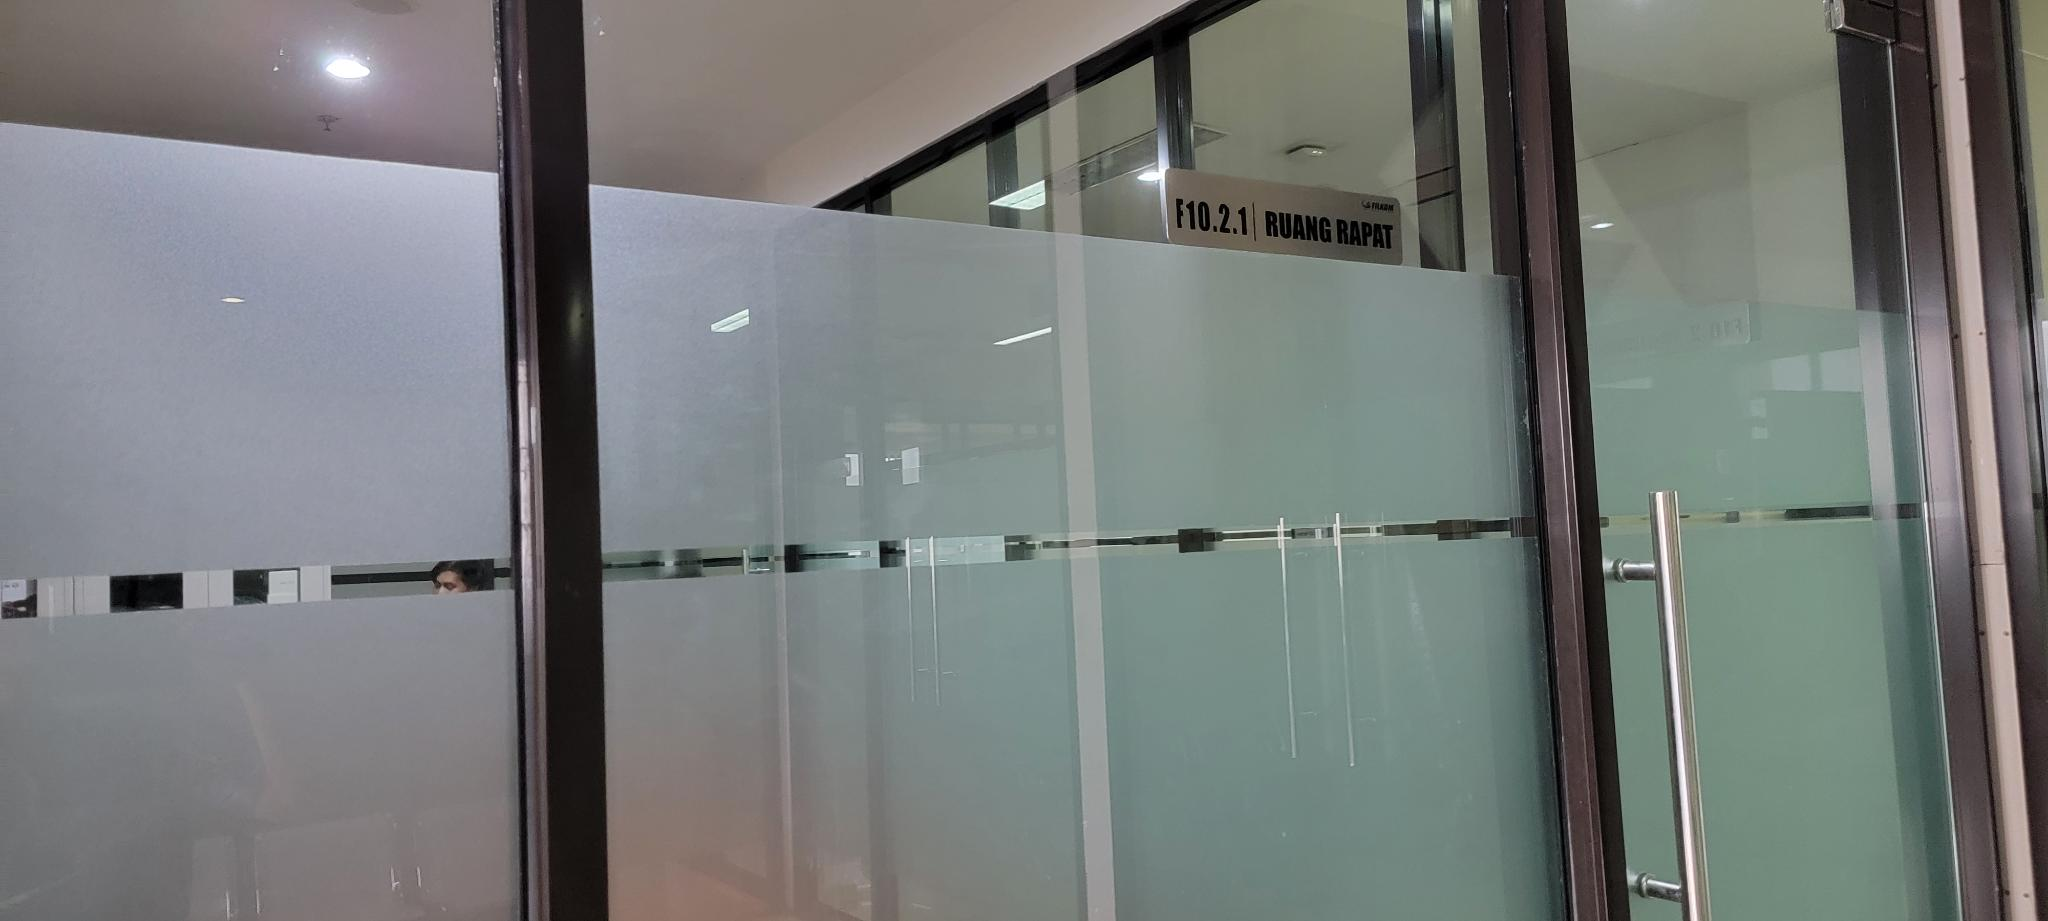plate: (1166, 166, 1404, 267)
